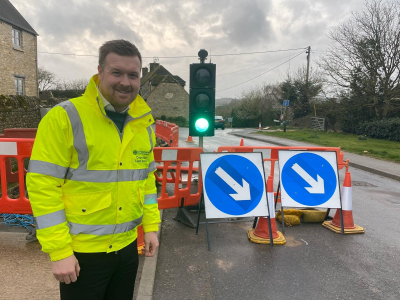trafficlight_green: (192, 67, 212, 135)
